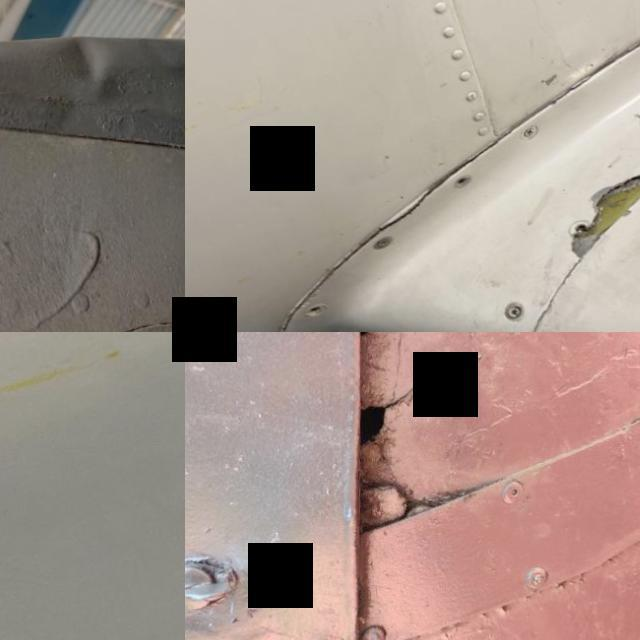Crack: (343, 349, 472, 466), (549, 175, 640, 271), (359, 178, 456, 252), (241, 260, 335, 332)
Dent: (46, 31, 115, 104)
Missing_Fastener: (298, 308, 320, 321), (451, 181, 469, 195)
